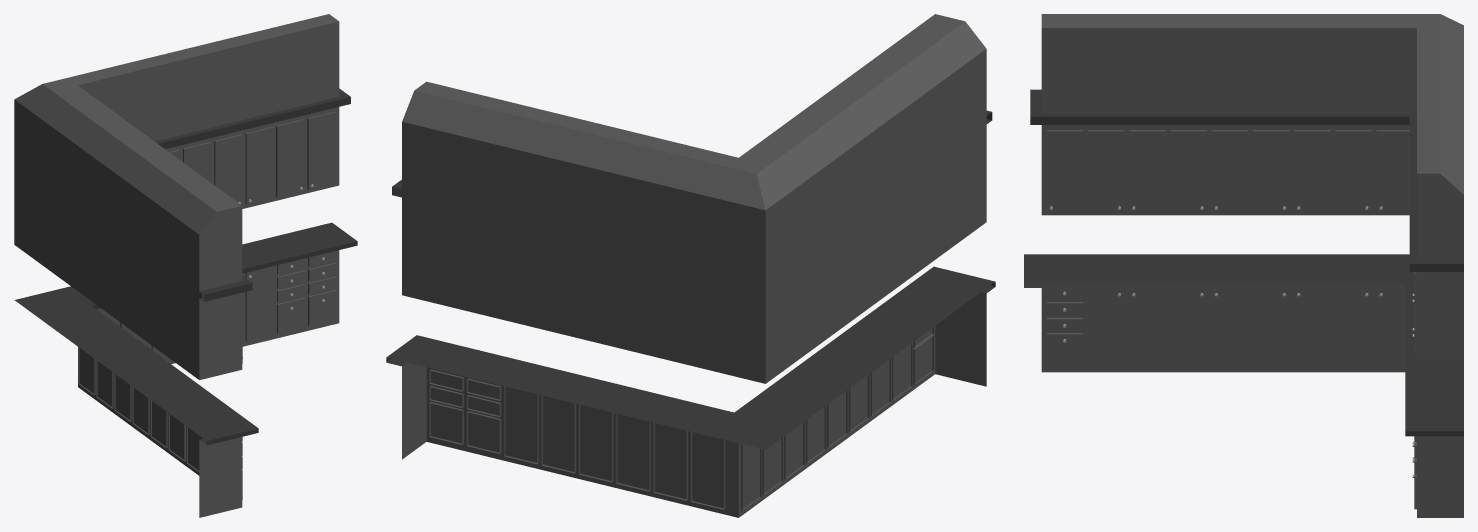
Rendered from ScienceShelves_03.fbx.
3 renders of one model, left to right at view 1: azimuth 30°, elevation 25°; view 2: azimuth 150°, elevation 25°; view 3: azimuth 270°, elevation 25°, orthographic. The views are drawn at different scales.
Visible parts, largest first — view 1: Science_Shelves_03; view 2: Science_Shelves_03; view 3: Science_Shelves_03.
Boxes of the visible parts, left/top/right/bottom form: Science_Shelves_03: left=14, top=14, right=357, bottom=517; Science_Shelves_03: left=386, top=14, right=995, bottom=517; Science_Shelves_03: left=1024, top=14, right=1463, bottom=517.
Size of the model in its own units: 1219 by 1106 by 1280.
